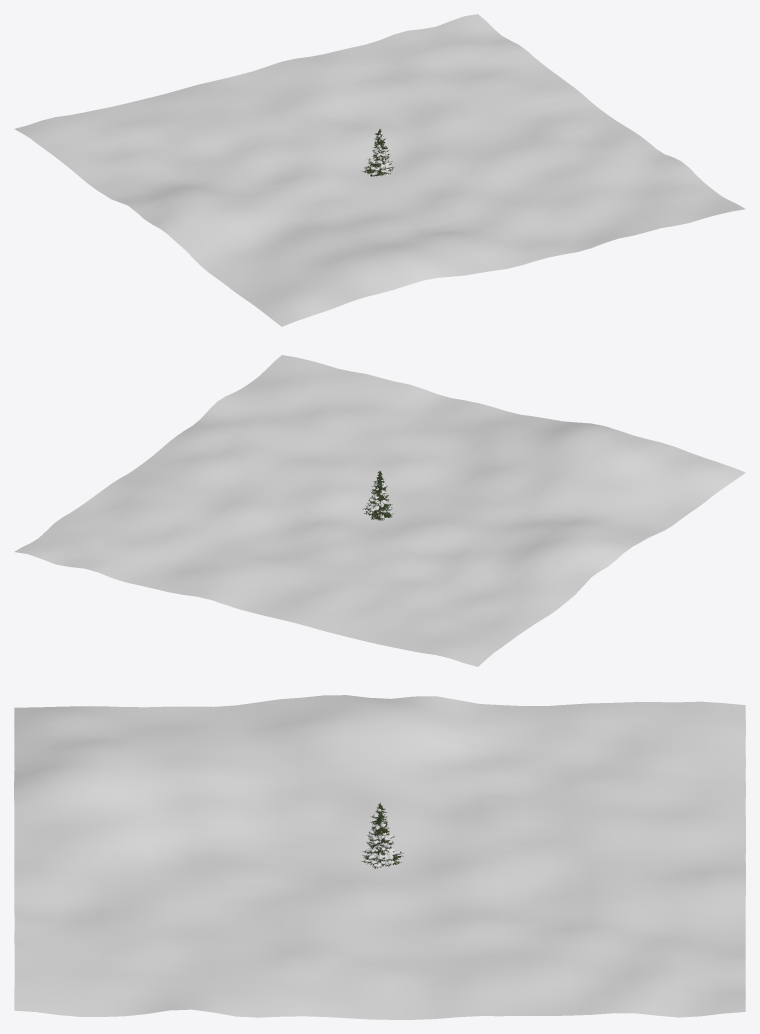
File: snowy-tree.glb
3 views of the same model, one above another, from view 1: azimuth 30°, elevation 25°; view 2: azimuth 150°, elevation 25°; view 3: azimuth 270°, elevation 25° (orthographic). The views are drawn at different scales.
Parts seen in each view (by area): view 1: bg, snow; view 2: bg, snow_covered_tree; view 3: bg, snow, snow_covered_tree.
Boxes of the visible parts, <box> form: bg: <box>14,14,745,326</box>; snow: <box>366,132,392,175</box>; bg: <box>14,355,745,666</box>; snow_covered_tree: <box>362,471,392,520</box>; bg: <box>14,695,745,1019</box>; snow: <box>364,806,399,867</box>; snow_covered_tree: <box>361,803,403,868</box>.
Size of the model in its own units: 36.15 by 3.67 by 36.15.
Materials: 3 (2 with a texture image).
